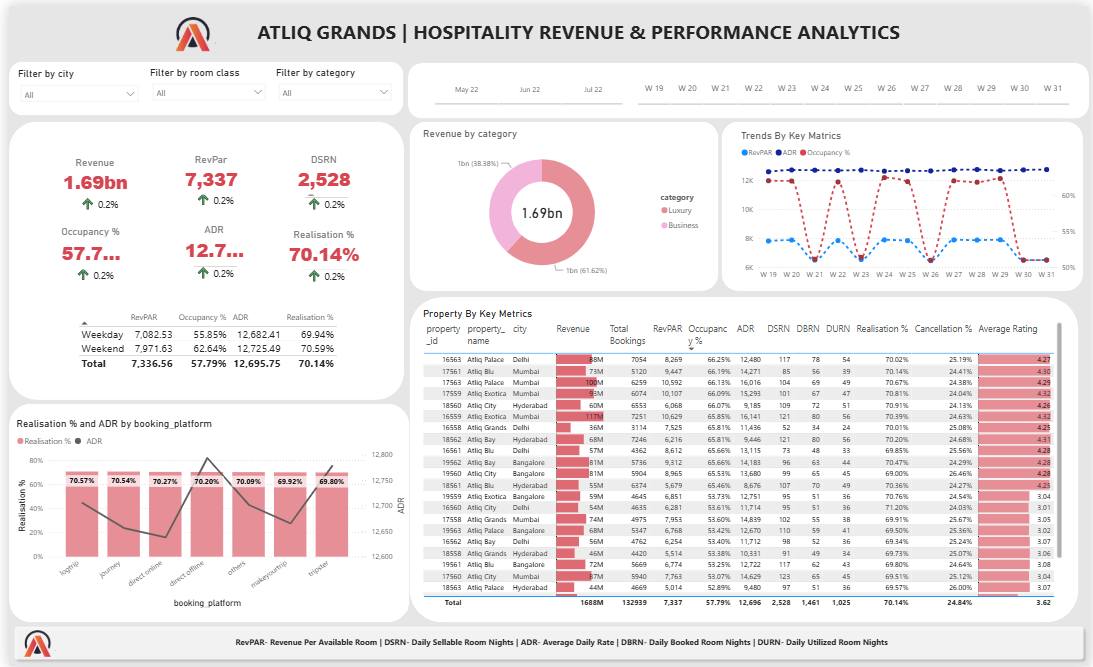

This screenshot's page, from the dashboard's own definition file:
{"tool":"powerbi","page":{"name":"Page 1","canvas":[1800,1100],"ordinal":0},"visuals":[{"type":"shape","box":[0,192.5,658.6,464.1],"z":0},{"type":"tableEx","fields":{"Values":["key_measures.Revenue WoW change %"]},"box":[110,286.7,120,70],"z":1000},{"type":"card","title":"Revenue","fields":{"Values":["key_measures.Revenue"]},"box":[64.2,249.2,156.6,70],"z":2000},{"type":"tableEx","fields":{"Values":["dim_date.day type","key_measures.RevPAR","key_measures.Occupancy %","key_measures.ADR","key_measures.Realisation %"]},"box":[110,501.7,475,117.5],"z":3000},{"type":"tableEx","fields":{"Values":["key_measures.Revenue WoW change %"]},"box":[303.3,279.2,135,90],"z":4000},{"type":"tableEx","fields":{"Values":["key_measures.Revenue WoW change %"]},"box":[488.7,286.9,104,80],"z":5000},{"type":"card","title":"DSRN","fields":{"Values":["key_measures.DSRN"]},"box":[460,245.9,129.5,69.6],"z":6000},{"type":"card","title":"RevPar","fields":{"Values":["key_measures.RevPAR"]},"box":[277.7,243.9,118.2,69.6],"z":7000},{"type":"tableEx","fields":{"Values":["key_measures.Revenue WoW change %"]},"box":[488.7,406.9,104,80],"z":8000},{"type":"card","title":"Realisation %","fields":{"Values":["key_measures.Realisation %"]},"box":[460.7,370.9,129.5,69.6],"z":9000},{"type":"tableEx","fields":{"Values":["key_measures.Revenue WoW change %"]},"box":[303.7,401.9,104,80],"z":10000},{"type":"tableEx","fields":{"Values":["key_measures.Revenue WoW change %"]},"box":[103.7,405.2,104,80],"z":11000},{"type":"shape","box":[0,91.7,657.5,90],"z":12000},{"type":"card","title":"Occupancy %","fields":{"Values":["key_measures.Occupancy %"]},"box":[75.7,365.2,122,74],"z":13000},{"type":"card","title":"ADR","fields":{"Values":["key_measures.ADR"]},"box":[281.7,361.9,118.2,69.6],"z":14000},{"type":"slicer","title":"Filter by room class","fields":{"Values":["dim_rooms.room_class"]},"box":[230,99.2,207.5,75],"z":15000},{"type":"slicer","title":"Filter by city","fields":{"Values":["dim_hotels.city"]},"box":[10,101.7,215,72.5],"z":16000},{"type":"shape","box":[665,94.8,1135,92.5],"z":17000},{"type":"slicer","fields":{"Values":["dim_date.mmm yy"]},"box":[685.3,107.4,364.5,63.2],"z":18000},{"type":"slicer","fields":{"Values":["dim_date.week no"]},"box":[1023.1,102.5,767.9,68],"z":19000},{"type":"shape","box":[667.5,191.7,515,282.5],"z":20000},{"type":"shape","box":[1187.5,191.7,602.5,282.5],"z":21000},{"type":"donutChart","fields":{"Category":["dim_hotels.category"],"Y":["key_measures.Revenue"]},"box":[685,201.7,480,262.5],"z":22000},{"type":"shape","box":[0,661.7,667.5,365],"z":23000},{"type":"lineChart","title":"Trends By Key Matrics","fields":{"Category":["dim_date.mmm yy.Variation.Date Hierarchy.Month","dim_date.week no"],"Y":["key_measures.RevPAR","key_measures.ADR"],"Y2":["key_measures.Occupancy %"]},"box":[1215,204.2,567.5,260],"z":24000},{"type":"lineStackedColumnComboChart","fields":{"Category":["fact_bookings.booking_platform"],"Y":["key_measures.Realisation %"],"Y2":["key_measures.ADR"]},"box":[7.5,684.2,657.5,322.5],"z":25000},{"type":"shape","box":[667.5,484.2,1115,542.5],"z":26000},{"type":"tableEx","title":"Property By Key Metrics","fields":{"Values":["dim_hotels.property_id","dim_hotels.property_name","dim_hotels.city","key_measures.Revenue","key_measures.Total Bookings","key_measures.RevPAR","key_measures.Occupancy %","key_measures.ADR","key_measures.DSRN","key_measures.DBRN","key_measures.DURN","key_measures.Realisation %"]},"box":[685,501.7,1075,505],"z":27000},{"type":"slicer","title":"Filter by category","fields":{"Values":["dim_hotels.category"]},"box":[440,99.2,207.5,75],"z":28000},{"type":"shape","box":[0,1025.5,1800,73.3],"z":29000},{"type":"image","box":[7.3,1025.5,75.3,75.3],"z":30000},{"type":"textbox","box":[371.8,1044.9,1117.8,36.5],"z":30001},{"type":"textbox","box":[347.5,9.7,1212.6,72.9],"z":30002},{"type":"image","box":[235.7,0,136.7,93.3],"z":30003}]}

Visuals, with their boxes in screenshot pixels (x1, y1, x2, y2), scaled from the page's 1800x1100 canvas onto the 1093x667 screenshot:
shape: <region>0, 117, 400, 398</region>
tableEx - key_measures.Revenue WoW change %: <region>67, 174, 140, 216</region>
"Revenue" card: <region>39, 151, 134, 194</region>
tableEx - dim_date.day type x key_measures.RevPAR: <region>67, 304, 355, 375</region>
tableEx - key_measures.Revenue WoW change %: <region>184, 169, 266, 224</region>
tableEx - key_measures.Revenue WoW change %: <region>297, 174, 360, 222</region>
"DSRN" card: <region>279, 149, 358, 191</region>
"RevPar" card: <region>169, 148, 240, 190</region>
tableEx - key_measures.Revenue WoW change %: <region>297, 247, 360, 295</region>
"Realisation %" card: <region>280, 225, 358, 267</region>
tableEx - key_measures.Revenue WoW change %: <region>184, 244, 248, 292</region>
tableEx - key_measures.Revenue WoW change %: <region>63, 246, 126, 294</region>
shape: <region>0, 56, 399, 110</region>
"Occupancy %" card: <region>46, 221, 120, 266</region>
"ADR" card: <region>171, 219, 243, 262</region>
"Filter by room class" slicer: <region>140, 60, 266, 106</region>
"Filter by city" slicer: <region>6, 62, 137, 106</region>
shape: <region>404, 57, 1092, 114</region>
slicer - dim_date.mmm yy: <region>416, 65, 637, 103</region>
slicer - dim_date.week no: <region>621, 62, 1088, 103</region>
shape: <region>405, 116, 718, 288</region>
shape: <region>721, 116, 1087, 288</region>
donutChart - dim_hotels.category x key_measures.Revenue: <region>416, 122, 707, 281</region>
shape: <region>0, 401, 405, 623</region>
"Trends By Key Matrics" lineChart: <region>738, 124, 1082, 281</region>
lineStackedColumnComboChart - fact_bookings.booking_platform x key_measures.Realisation %: <region>5, 415, 404, 610</region>
shape: <region>405, 294, 1082, 623</region>
"Property By Key Metrics" tableEx: <region>416, 304, 1069, 610</region>
"Filter by category" slicer: <region>267, 60, 393, 106</region>
shape: <region>0, 622, 1092, 666</region>
image: <region>4, 622, 50, 666</region>
textbox: <region>226, 634, 905, 656</region>
textbox: <region>211, 6, 947, 50</region>
image: <region>143, 0, 226, 57</region>
